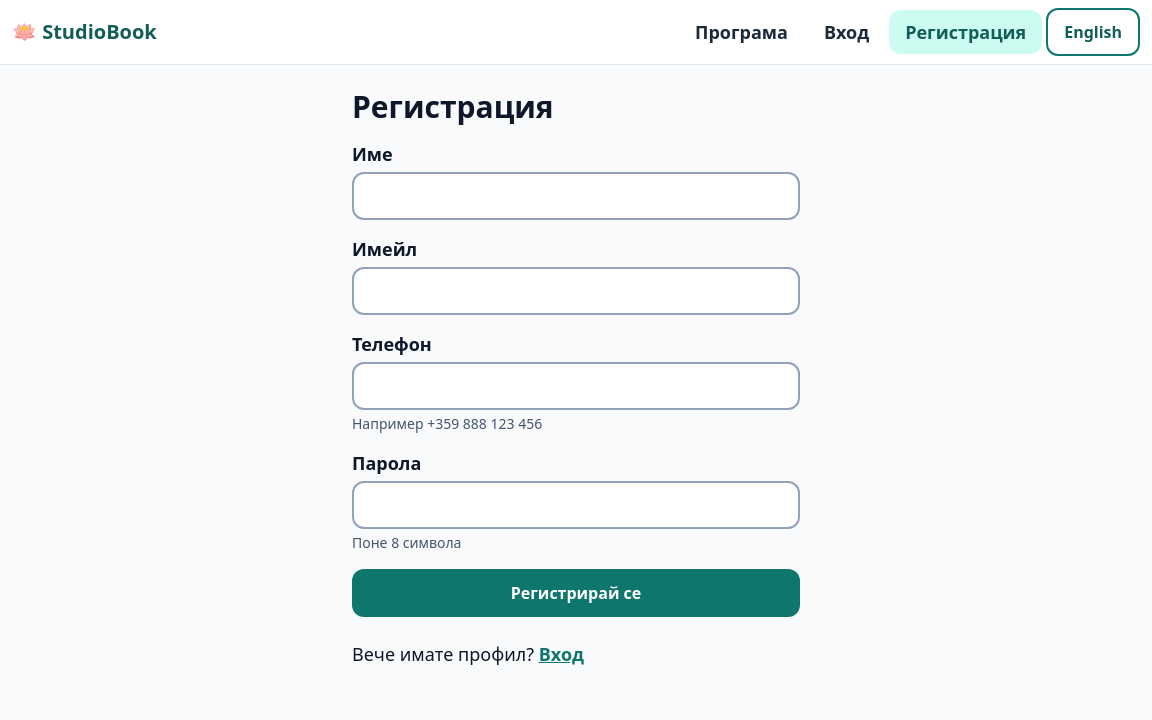
Test: App routing and auth › AC-1: register sends phone and language and lands on the schedule
Type "Ивана" into the field labelled "Име" at (576, 196), box x1=352 y1=172 x2=800 y2=220
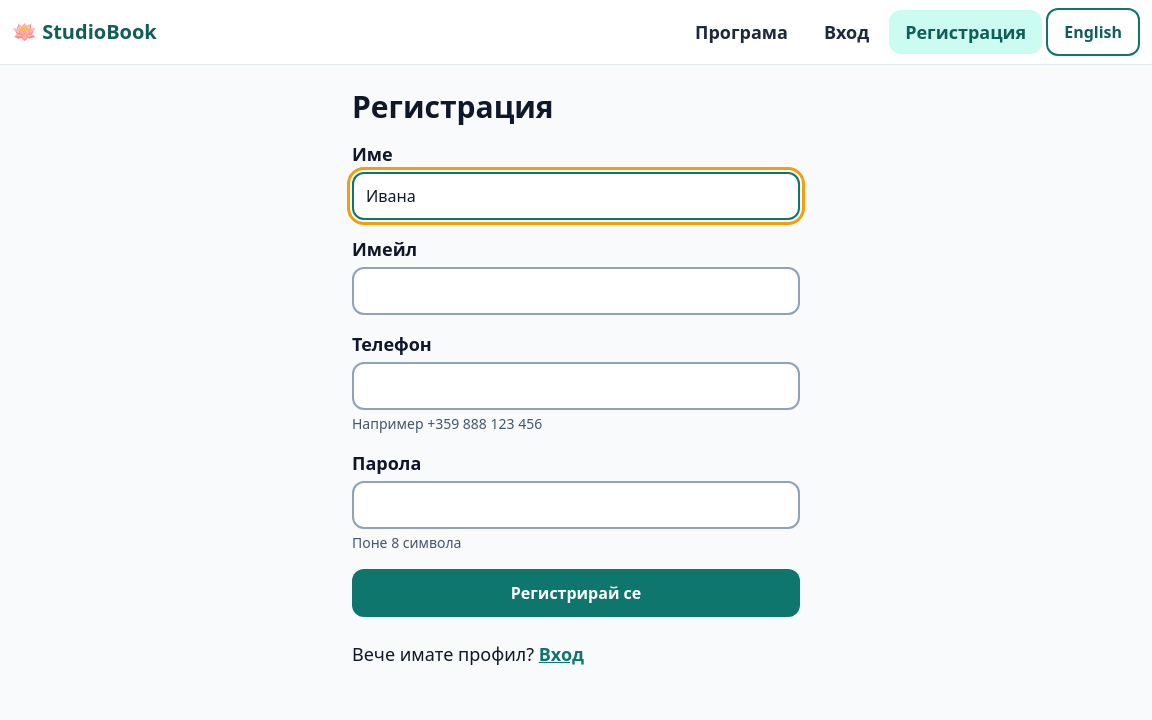
Type "a@b.bg" into the field labelled "Имейл" at (576, 291), box x1=352 y1=267 x2=800 y2=315
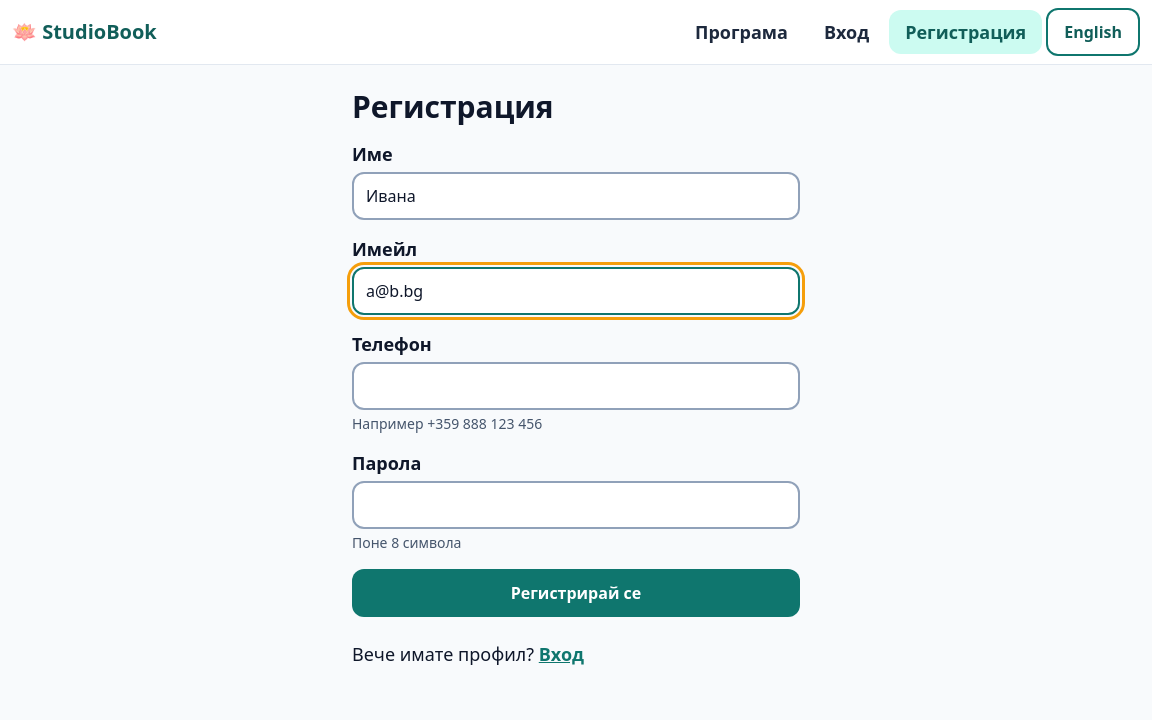
Type "+359 888 123 456" into the field labelled "Телефон" at (576, 386), box x1=352 y1=362 x2=800 y2=410
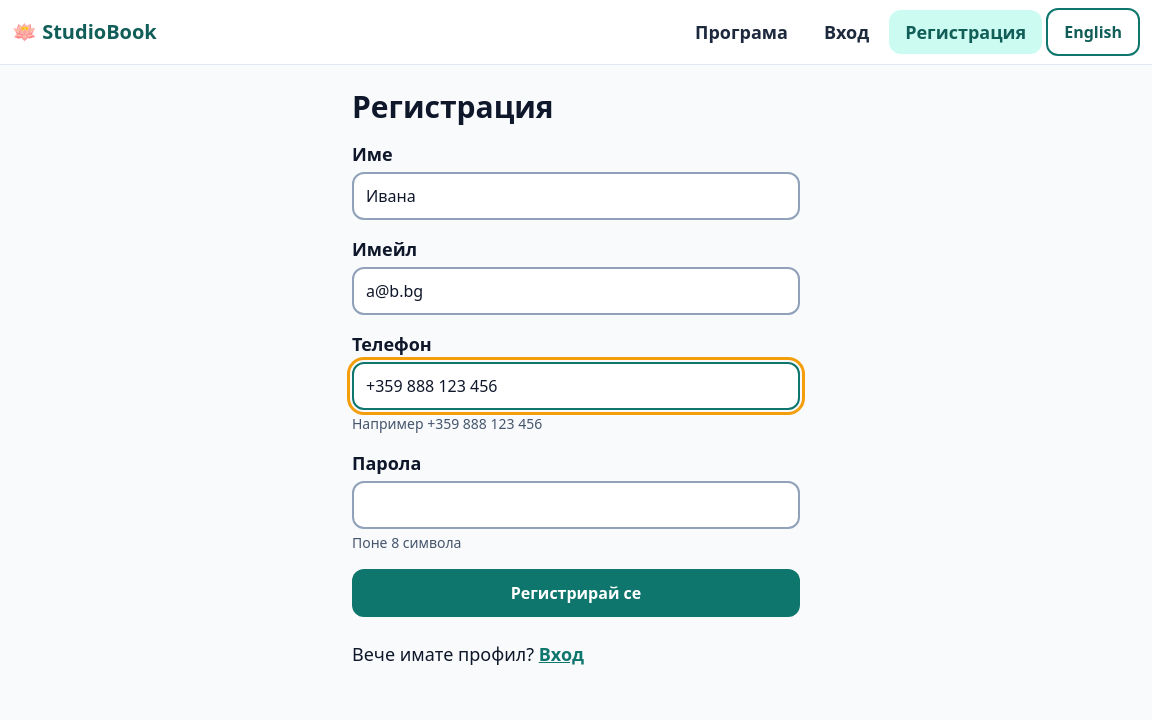
Type "secret123" into the password field labelled "Парола" at (576, 505), box x1=352 y1=481 x2=800 y2=529
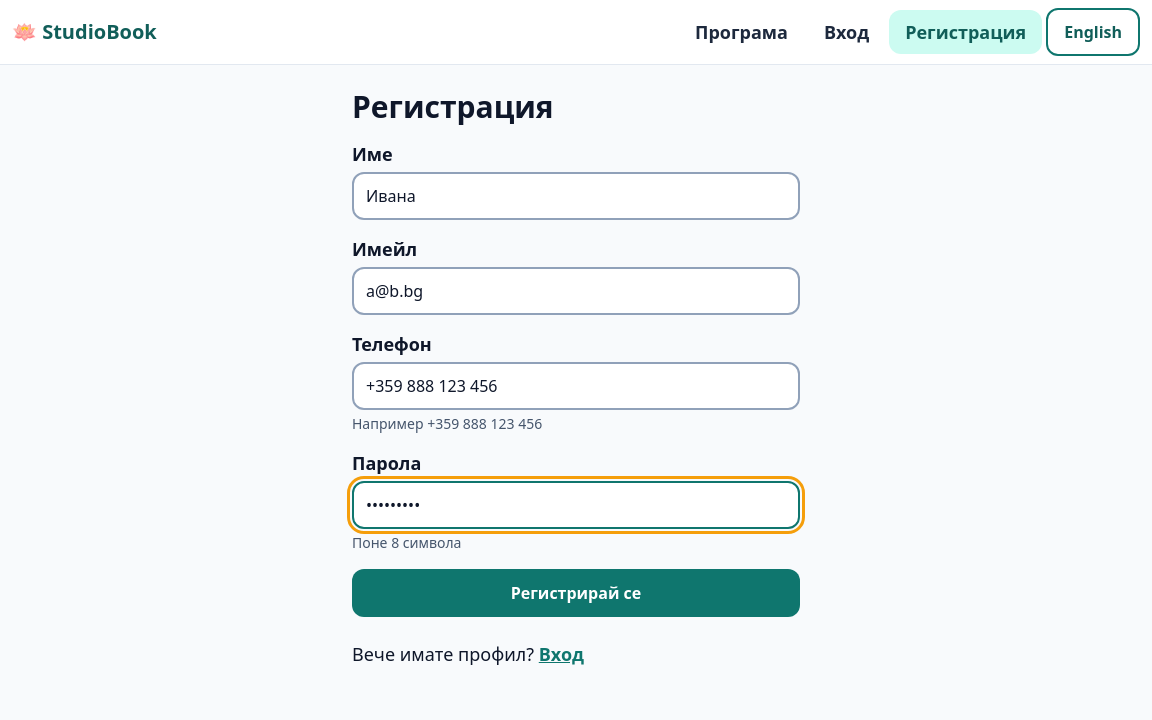
Click the button "Регистрирай се" at (576, 593), box x1=352 y1=569 x2=800 y2=617
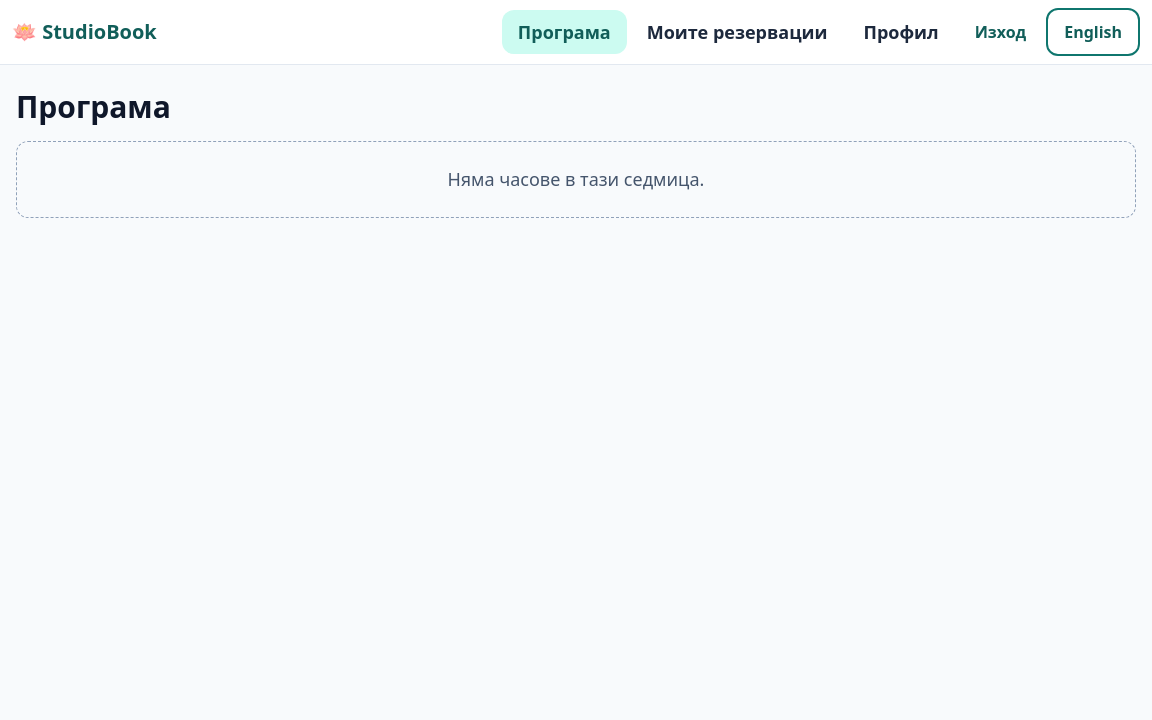
Expected: the heading "Програма" is shown, x1=16 y1=86 x2=171 y2=127
